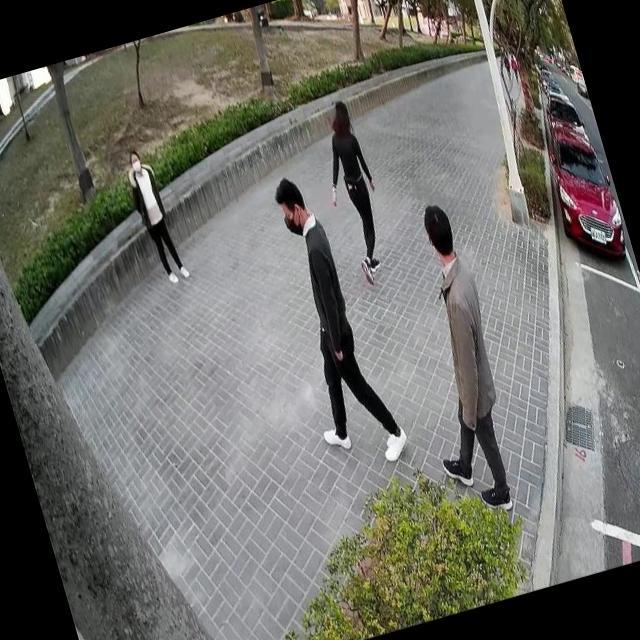person: (368, 192, 538, 524), (247, 156, 416, 482), (302, 88, 406, 298), (115, 140, 190, 288)
